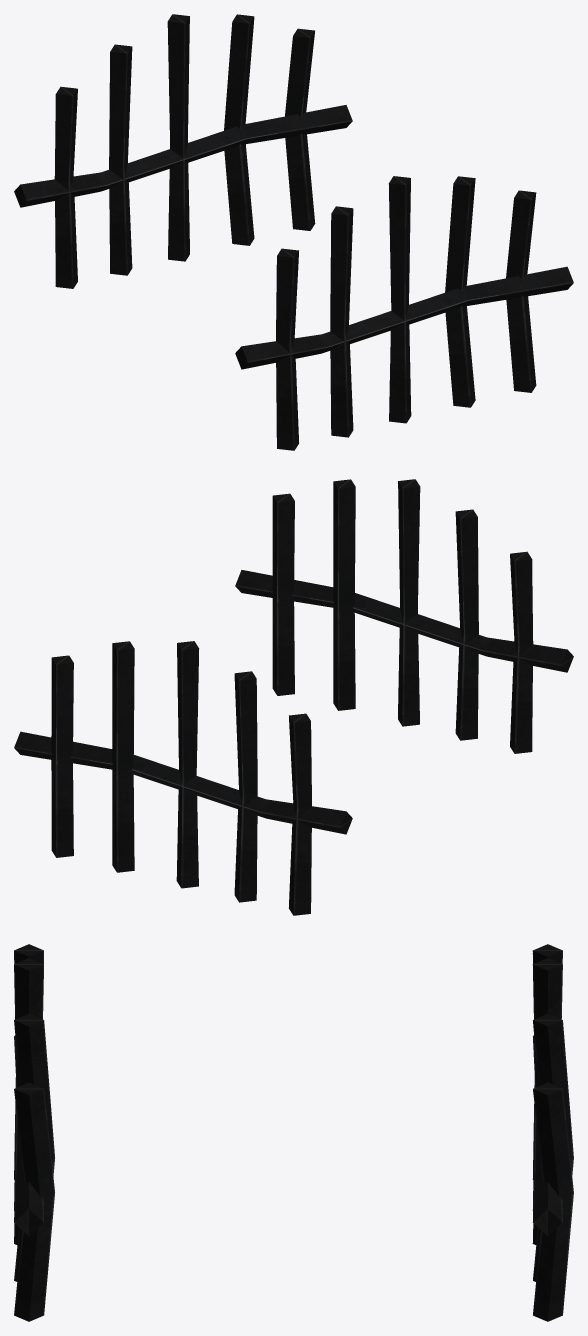
Rendered from sewer_stair001_metal.FBX.
3 views of the same model, one above another, from view 1: azimuth 30°, elevation 25°; view 2: azimuth 150°, elevation 25°; view 3: azimuth 270°, elevation 25° (orthographic). The views are drawn at different scales.
Visible parts, largest first — view 1: sewer_stair001_metal; view 2: sewer_stair001_metal; view 3: sewer_stair001_metal.
Boxes of the visible parts, x1,y1,x2,y2 form: sewer_stair001_metal: (14,14,573,450); sewer_stair001_metal: (14,479,573,915); sewer_stair001_metal: (14,944,573,1321).
Bounding box in the file's own units: 518 × 362 × 657.
